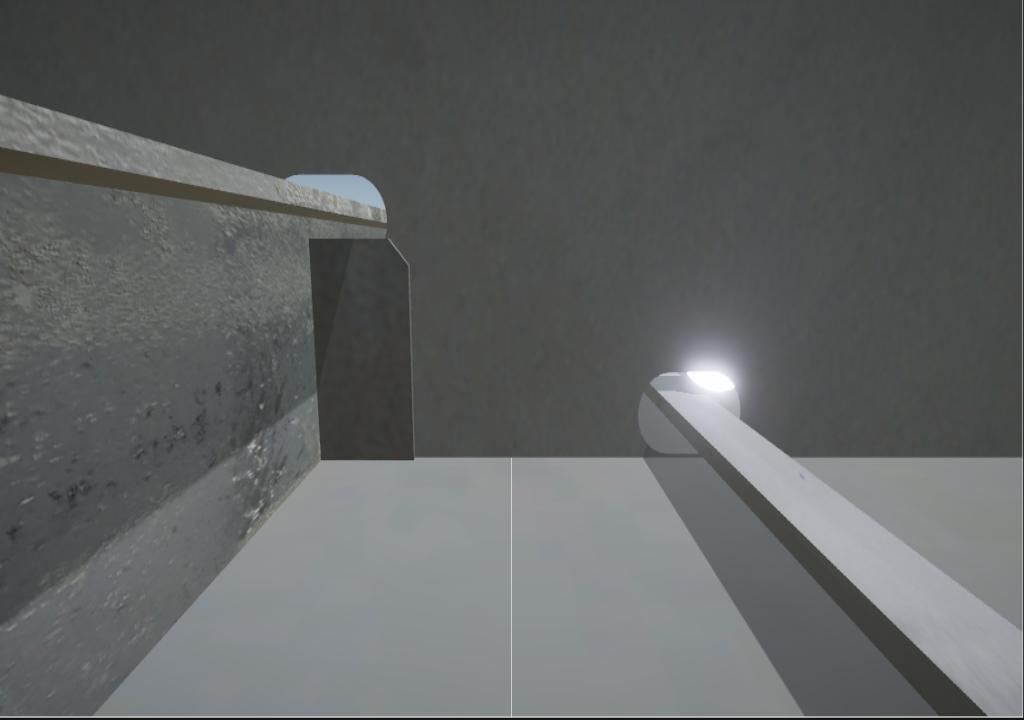fillet_yong_jeop_jang: (414, 451, 705, 466)
plate_CP03: (308, 237, 417, 463)
